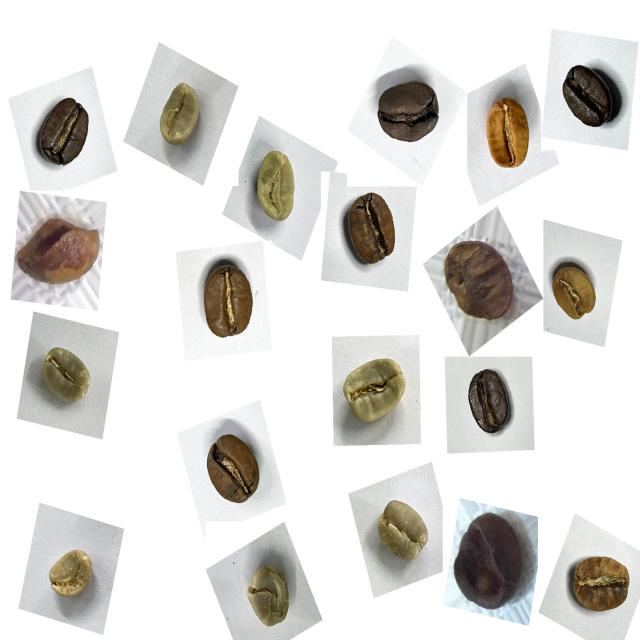bad: (446, 504, 536, 620), (12, 207, 110, 302), (437, 228, 521, 330)
dark: (366, 70, 447, 160), (553, 51, 627, 140), (457, 362, 524, 449)
green: (332, 341, 417, 444), (364, 490, 438, 576), (245, 141, 312, 235), (30, 335, 104, 420), (234, 554, 303, 640), (149, 74, 215, 162), (40, 540, 105, 613)
light: (474, 90, 538, 183), (542, 251, 606, 334)
medium: (188, 257, 268, 355), (194, 424, 272, 517), (335, 184, 410, 279), (28, 88, 100, 177), (564, 546, 640, 628)
